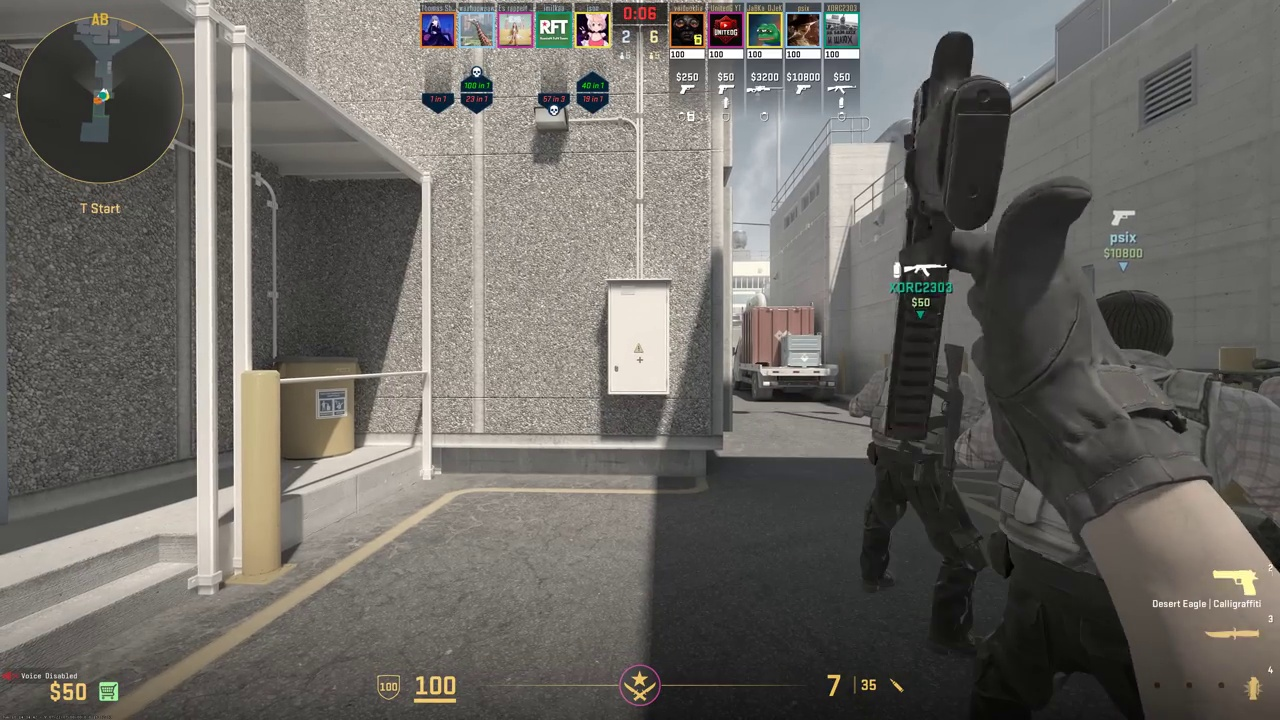Terrorist: (974, 284, 1268, 720), (866, 333, 963, 654)
